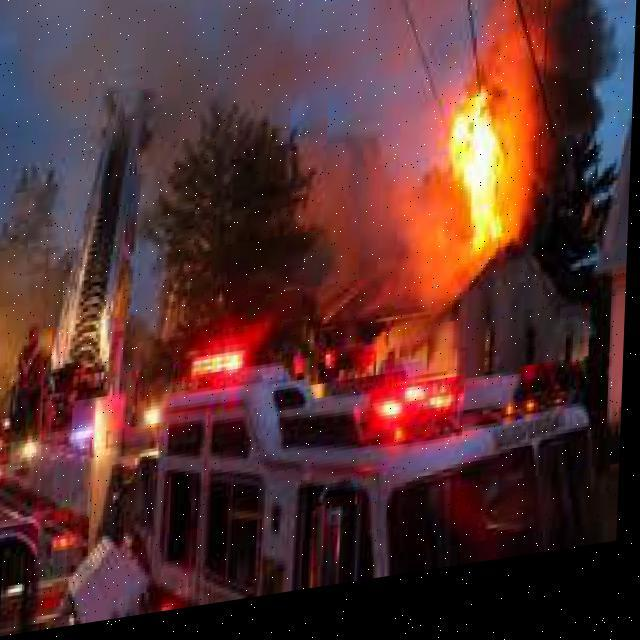Fire: (430, 84, 546, 286)
